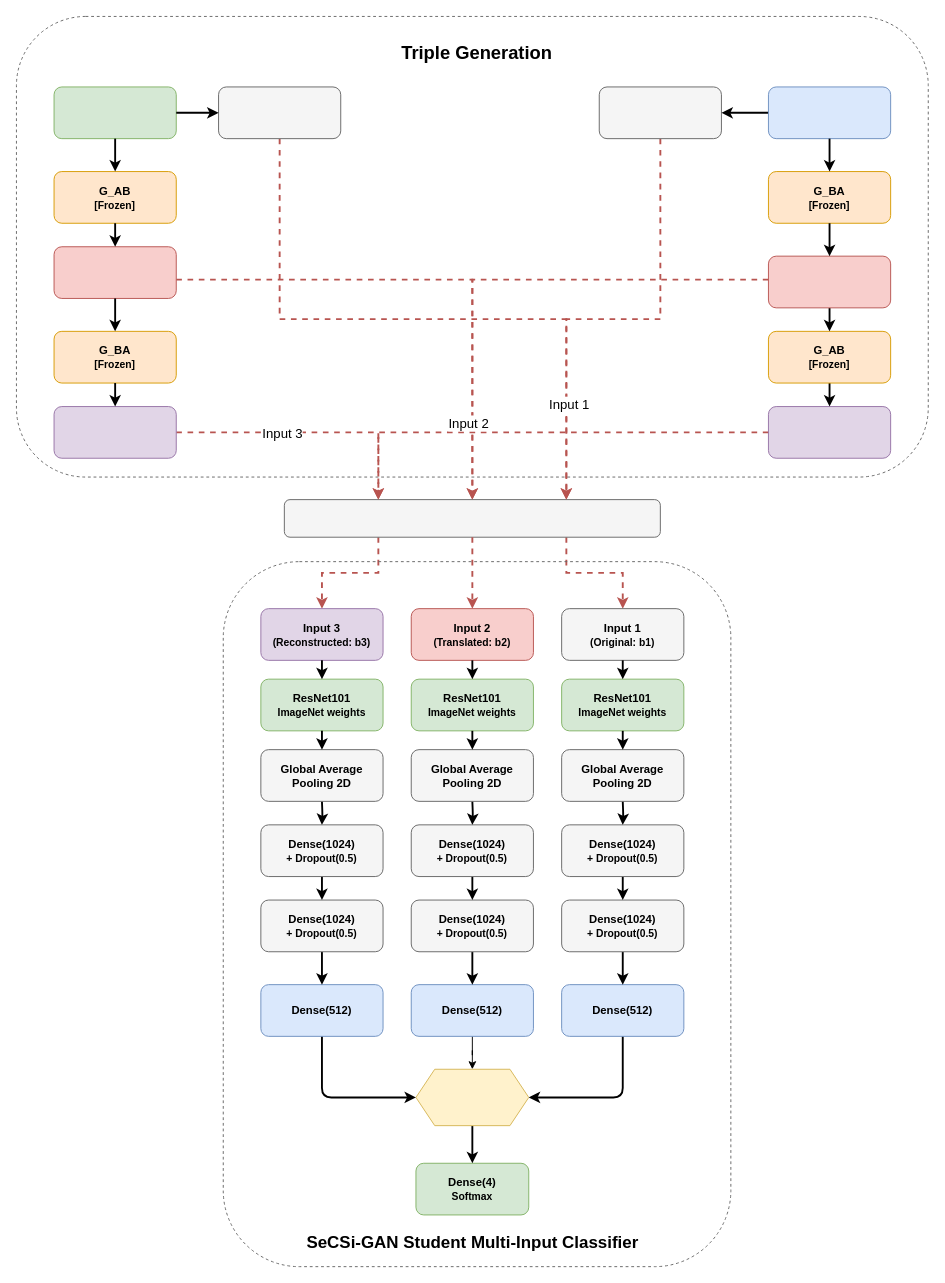
The diagram is 945 pixels wide and 1283 high, and some of its shapes have lost their labels. Each missing label, with the centre of its shape:
"Branch 1 (b1) Original NBI + Aug" goes at pixel 659 112.
"Branch 1 (b1) Original WLI + Aug" goes at pixel 279 112.
"Branch 2 (b2) Fake NBI" goes at pixel 114 272.
"Branch 2 (b2) Fake WLI" goes at pixel 829 281.
"Branch 3 (b3) Cycled NBI" goes at pixel 829 432.
"Branch 3 (b3) Cycled WLI" goes at pixel 114 432.
"Concatenate (1536-dim)" goes at pixel 472 1097.
"Image Triplet (b1, b2, b3) Passed to Multi-Input Classifier" goes at pixel 471 518.
"Labeled WLI Image (x_A)" goes at pixel 114 112.
"Pseudo-Labeled NBI (x_B)" goes at pixel 829 112.
